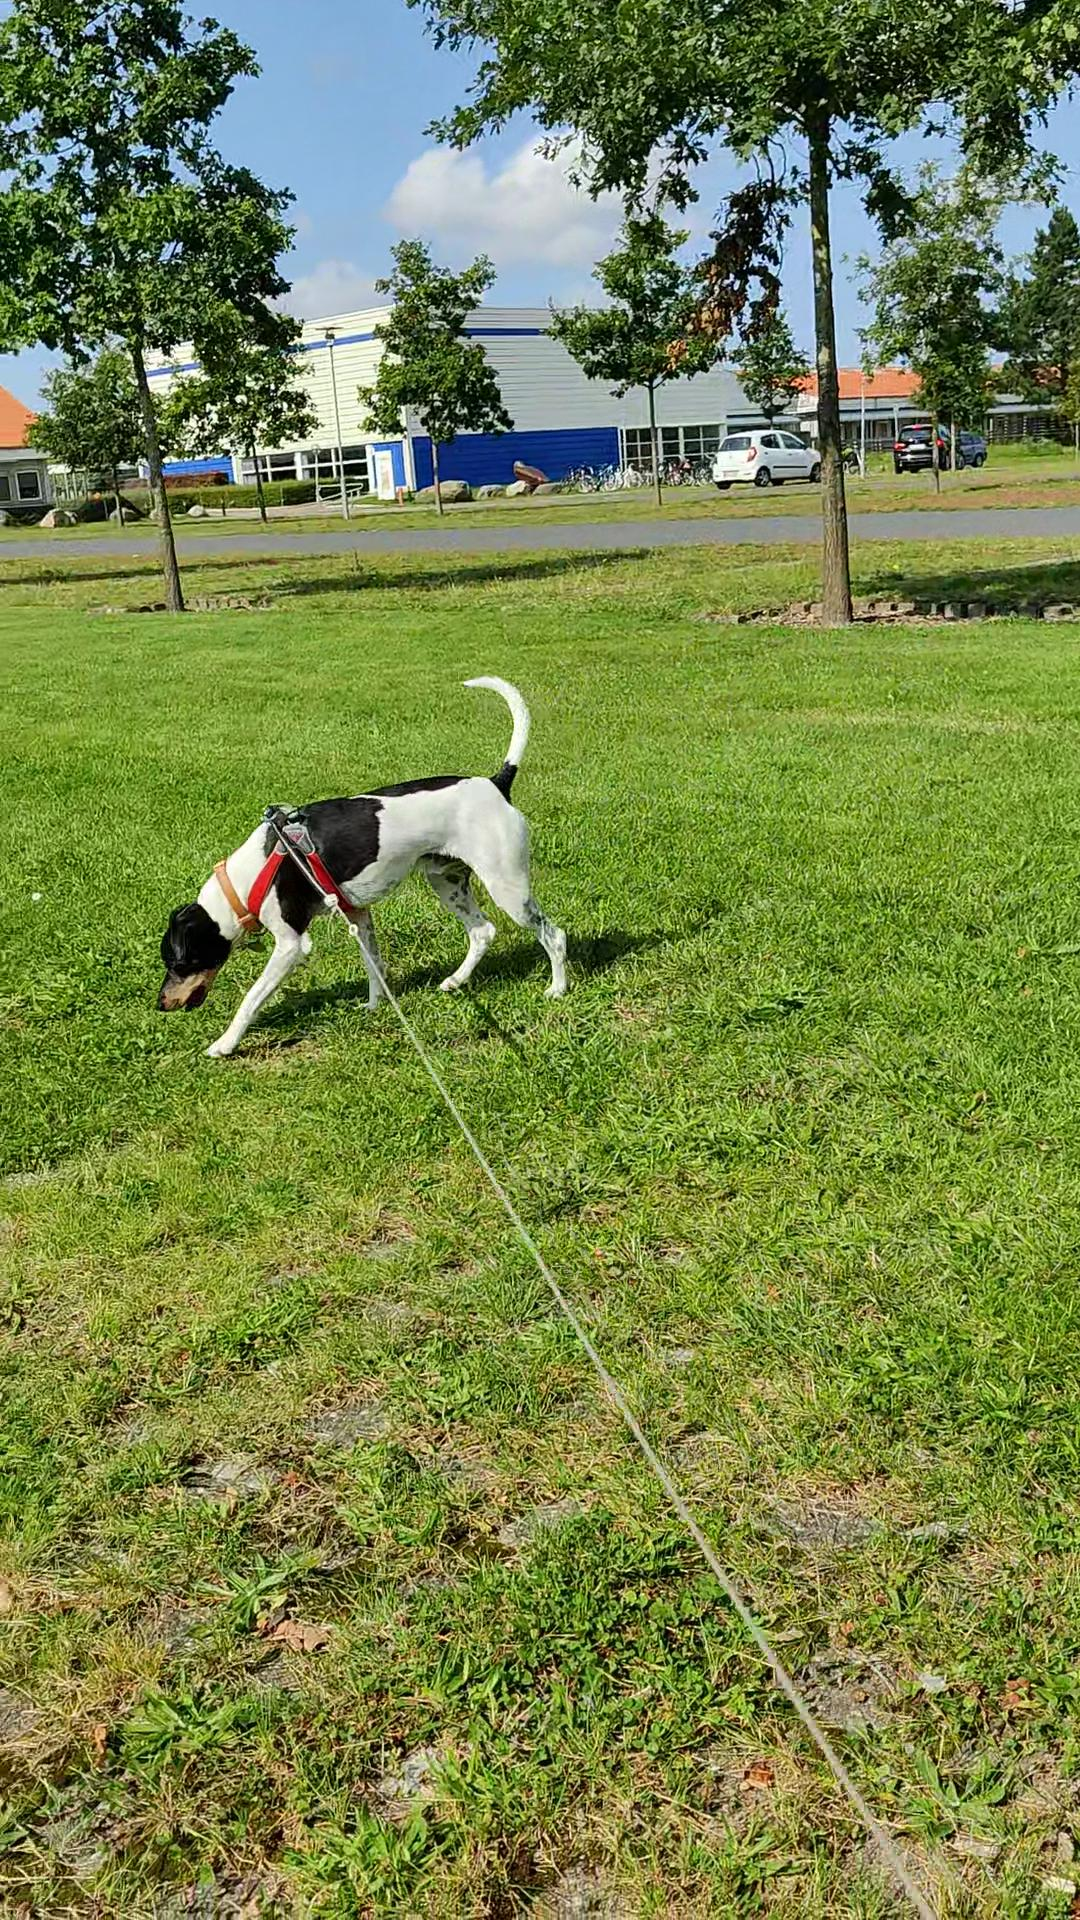Dog: (135, 665, 583, 1062)
